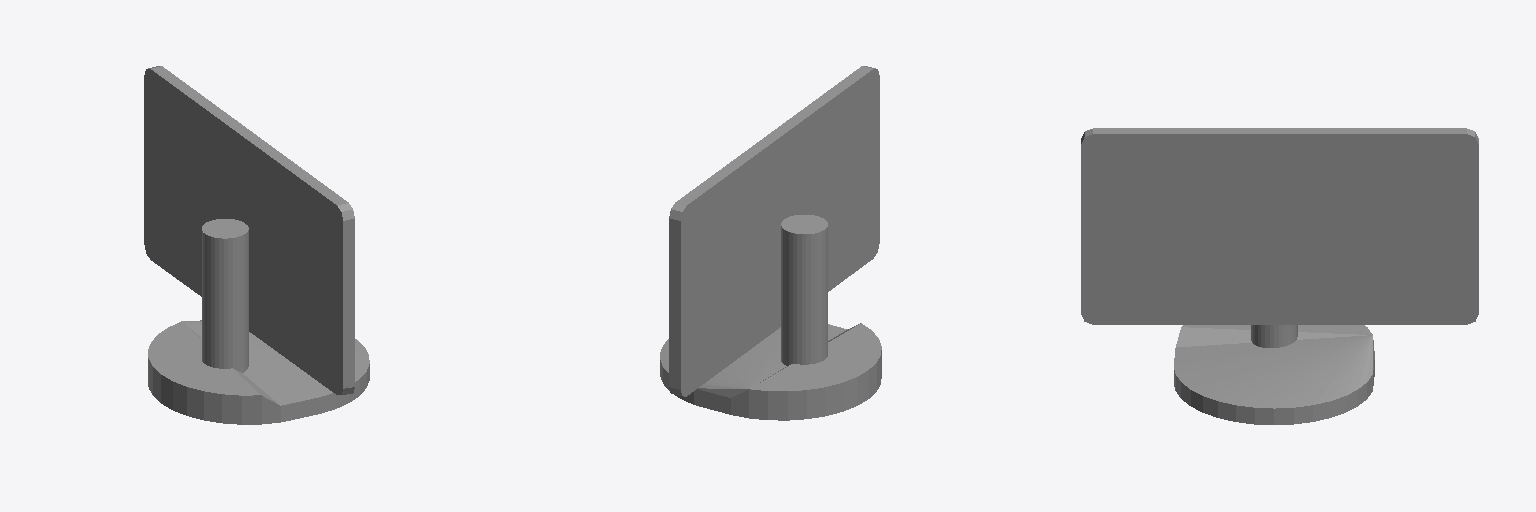
The model's file is Monitor.obj.
3 renders of one model, left to right at view 1: azimuth 30°, elevation 25°; view 2: azimuth 150°, elevation 25°; view 3: azimuth 270°, elevation 25°, orthographic.
Visible parts, largest first — view 1: Circle; view 2: Circle; view 3: Circle.
Boxes of the visible parts, <box> form: Circle: <box>144,66,369,424</box>; Circle: <box>660,66,881,420</box>; Circle: <box>1081,128,1478,424</box>.
Bounding box in the file's own units: 1.76 × 2.09 × 3.1.